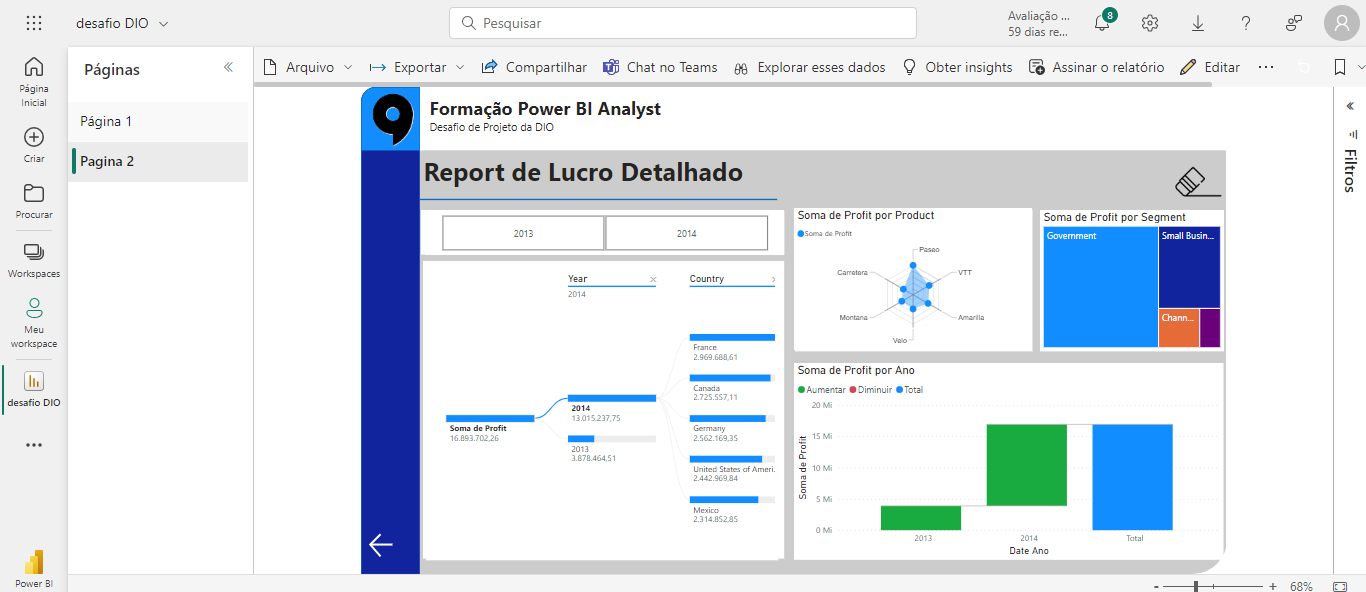

This screenshot's page, from the dashboard's own definition file:
{"tool":"powerbi","page":{"name":"Pagina 2","canvas":[1280,720],"ordinal":1},"visuals":[{"type":"shape","box":[0,0,1280.5,720],"z":0},{"type":"shape","box":[92.2,257.6,534.1,440.5],"z":1000},{"type":"shape","box":[641,181.5,351.2,209.3],"z":2000},{"type":"image","box":[1198.5,99.5,77.6,82],"z":3000},{"type":"shape","box":[0,0,87.3,720.6],"z":4000},{"type":"shape","box":[639.5,408.3,635.1,289.8],"z":5000},{"type":"shape","box":[89.3,181.5,537.1,65.9],"z":7000},{"type":"shape","box":[0,0,87.3,94.1],"z":8000},{"type":"actionButton","box":[1200,101,74.6,73.2],"z":9000},{"type":"image","box":[0,0,95.7,95.7],"z":10000},{"type":"shape","box":[87.3,0,1192.7,94.1],"z":11000},{"type":"textbox","box":[95.7,6.7,582.9,77.3],"z":12000},{"type":"textbox","box":[87.8,95.1,528.3,65.9],"z":13000},{"type":"shape","box":[87.8,159.5,528.3,13.2],"z":14000},{"type":"actionButton","box":[7.3,655.6,54.1,45.4],"z":15000},{"type":"shape","box":[1003.9,181.5,272.2,209.3],"z":16000},{"type":"treemap","fields":{"Values":["Sum(Sheet1.Profit)"],"Group":["Sheet1.Segment"]},"box":[1003.2,181.1,271.7,208.5],"z":16501},{"type":"waterfallChart","fields":{"Y":["Sum(Sheet1.Profit)"],"Category":["Sheet1.Date.Variation.Hierarquia de datas.Ano","Sheet1.Date.Variation.Hierarquia de datas.Trimestre","Sheet1.Date.Variation.Hierarquia de datas.Mês","Sheet1.Date.Variation.Hierarquia de datas.Dia"]},"box":[640.9,408.4,634,290.5],"z":16502},{"type":"decompositionTreeVisual","fields":{"Analyze":["Sum(Sheet1.Profit)"],"ExplainBy":["Sheet1.Year","Sheet1.Country"]},"box":[95.7,258.1,521.2,440.9],"z":16503},{"type":"RadarChart1446119667547","fields":{"Y":["Sum(Sheet1.Profit)"],"Category":["Sheet1.Product"]},"box":[640.9,179.4,352,210.2],"z":16504},{"type":"slicer","fields":{"Values":["Sheet1.Year"]},"box":[95,182.9,530.6,64.5],"z":16505}]}

Visuals, with their boxes on the page's 1280x720 design canvas (x1, y1, x2, y2). These are canvas units, not pixel positions in the 1366x592 screenshot, which may show the page scaled, cropped or inside an application window:
shape: detection(0, 0, 1280, 720)
shape: detection(92, 258, 626, 698)
shape: detection(641, 182, 992, 391)
image: detection(1198, 100, 1276, 182)
shape: detection(0, 0, 87, 721)
shape: detection(640, 408, 1275, 698)
shape: detection(89, 182, 626, 247)
shape: detection(0, 0, 87, 94)
actionButton: detection(1200, 101, 1275, 174)
image: detection(0, 0, 96, 96)
shape: detection(87, 0, 1280, 94)
textbox: detection(96, 7, 679, 84)
textbox: detection(88, 95, 616, 161)
shape: detection(88, 160, 616, 173)
actionButton: detection(7, 656, 61, 701)
shape: detection(1004, 182, 1276, 391)
treemap - Sum(Sheet1.Profit) x Sheet1.Segment: detection(1003, 181, 1275, 390)
waterfallChart - Sum(Sheet1.Profit) x Sheet1.Date.Variation.Hierarquia de datas.Ano: detection(641, 408, 1275, 699)
decompositionTreeVisual - Sum(Sheet1.Profit) x Sheet1.Year: detection(96, 258, 617, 699)
RadarChart1446119667547 - Sum(Sheet1.Profit) x Sheet1.Product: detection(641, 179, 993, 390)
slicer - Sheet1.Year: detection(95, 183, 626, 247)
